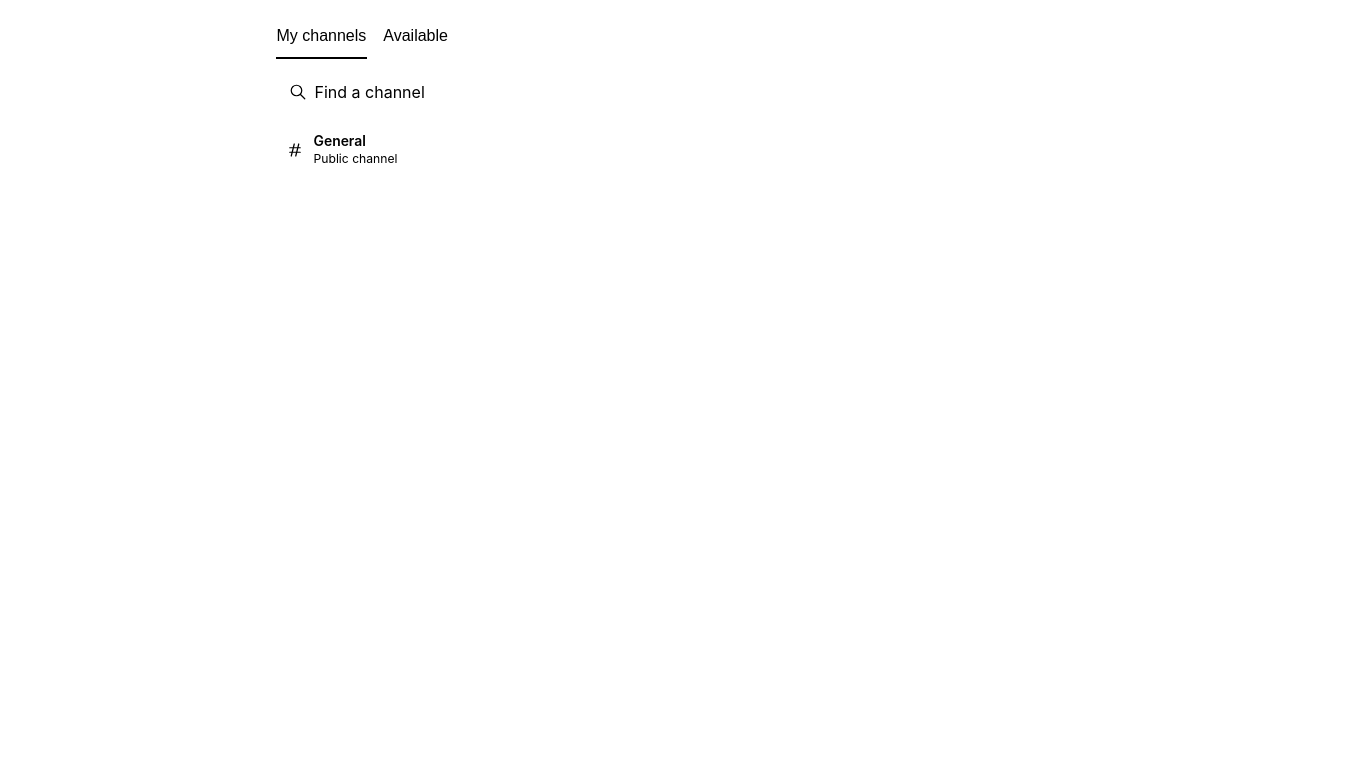
Test: members browse on demand, filter active public nonmembers, return to the same page and cancel without joining
The image size is (1366, 768).
Click the tab "Available".
click(416, 37)  # box [382,15,449,59]
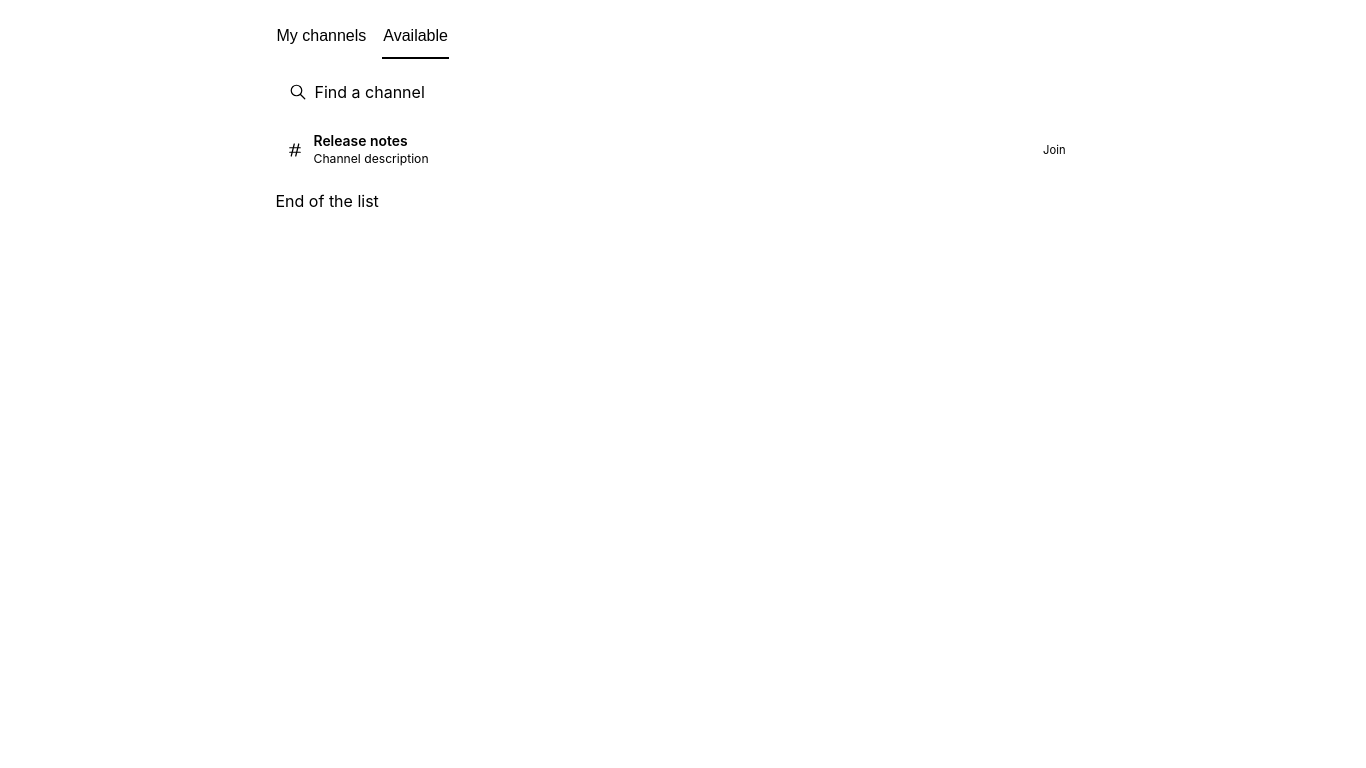
Expected: the button "General" is gone
Type "  #release  " into the search field labelled "Find a channel".
click(676, 92); type("  #release  ")  # box [276,72,1076,112]
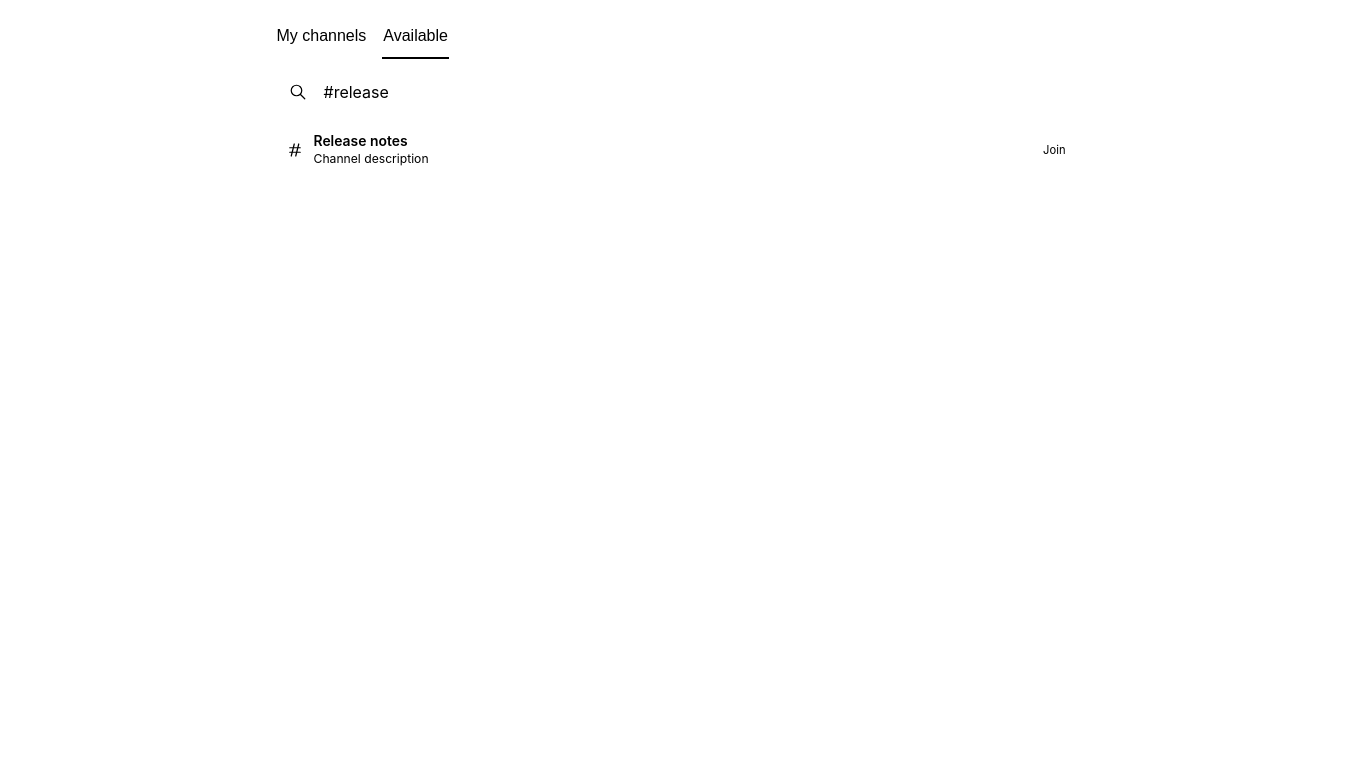
Click the button "Release notes Channel description Join".
click(361, 141)  # box [276,124,1076,175]
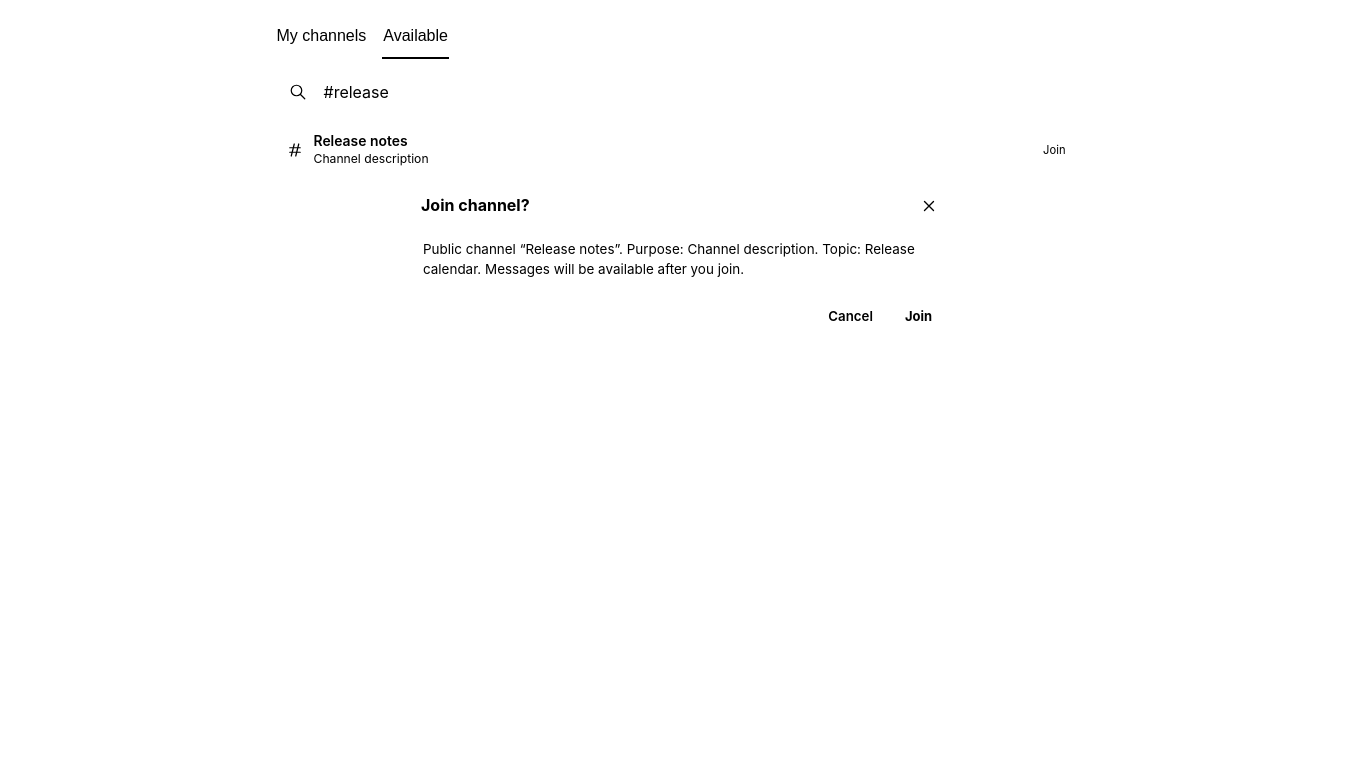
Click the button named "Close dialog".
click(929, 206)  # box [913,190,945,222]
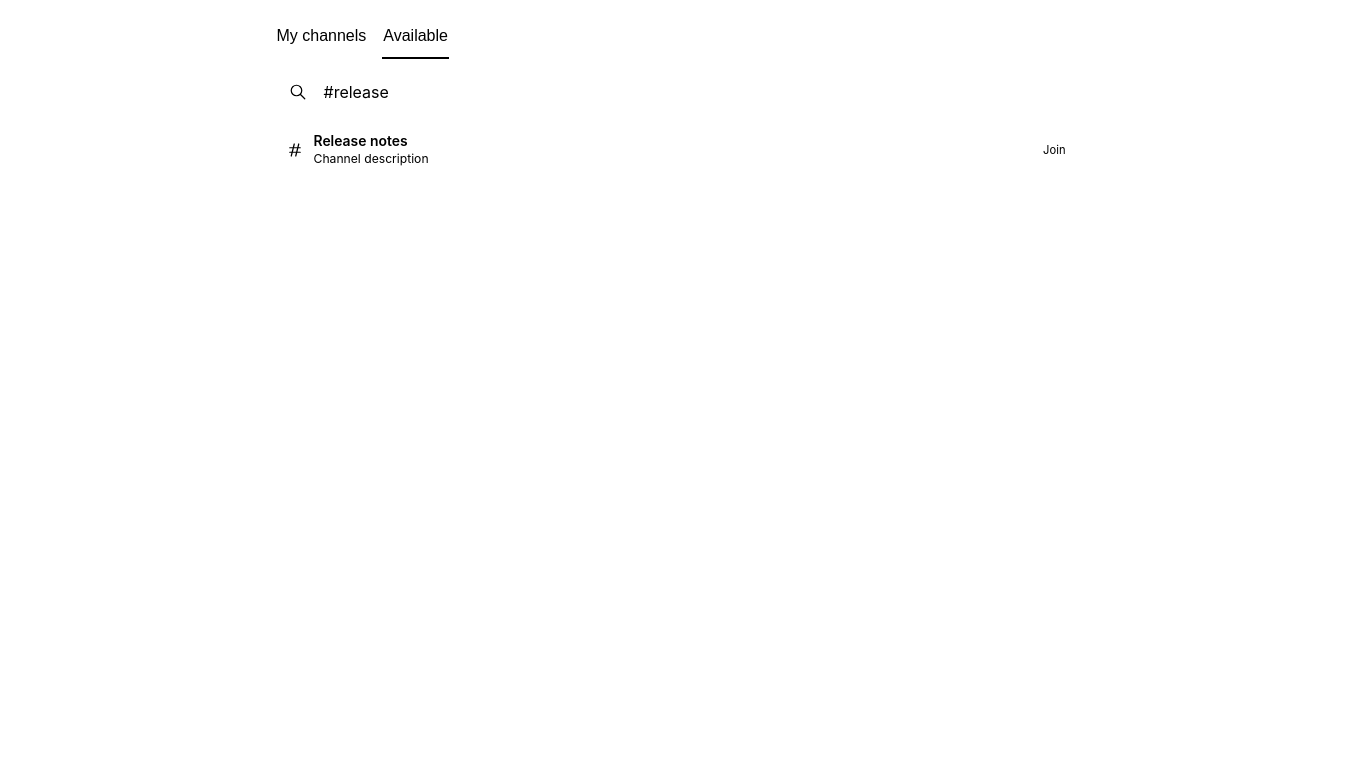
Click the tab "My channels".
click(321, 37)  # box [276,15,367,59]
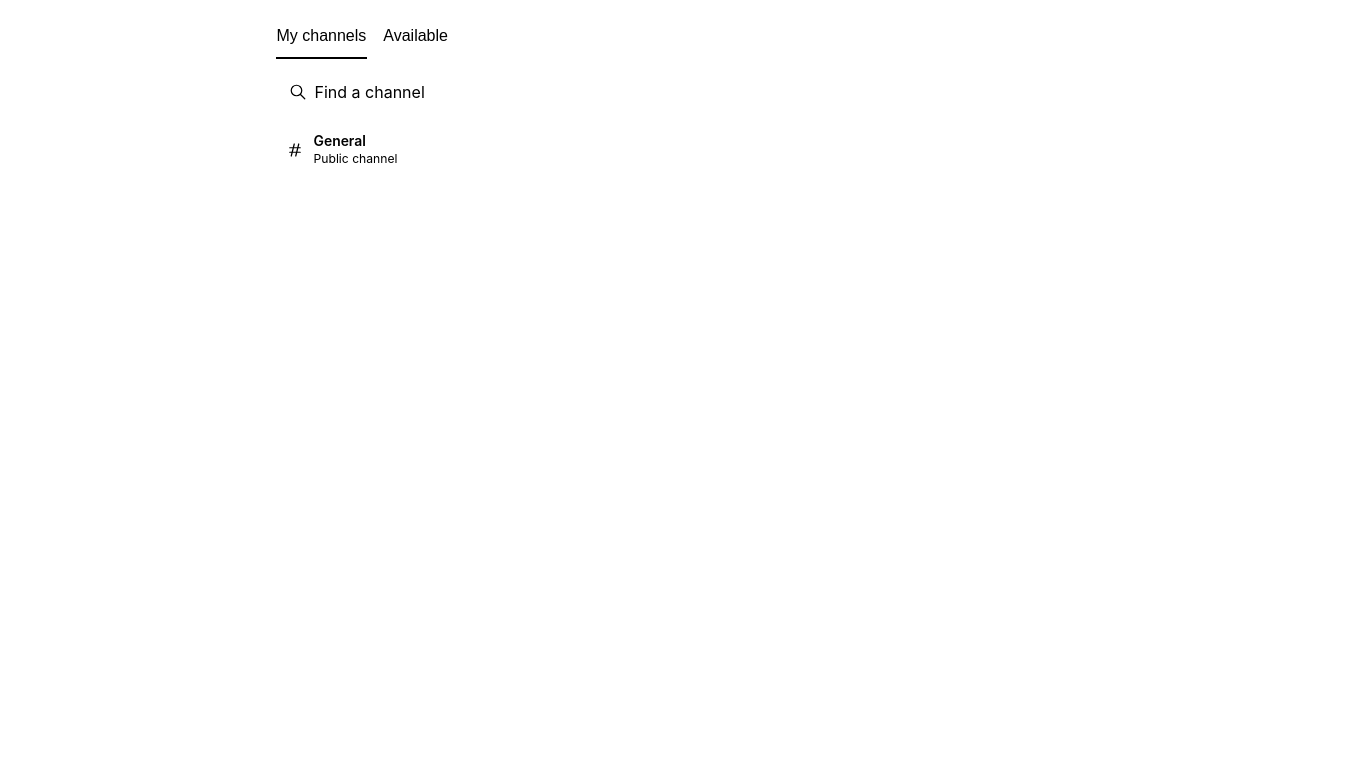
Click the tab "Available".
click(416, 37)  # box [382,15,449,59]
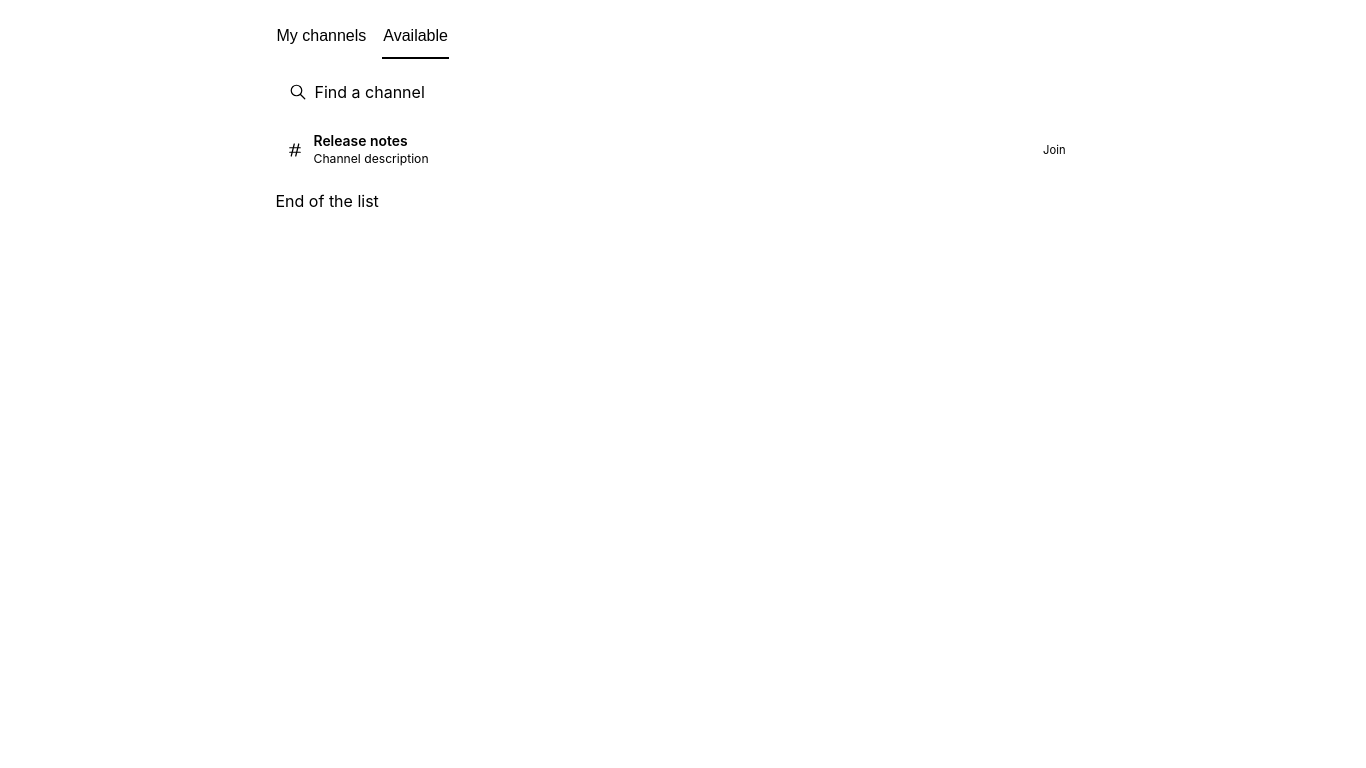
Expected: the search field is empty, [276,72,1076,112]
